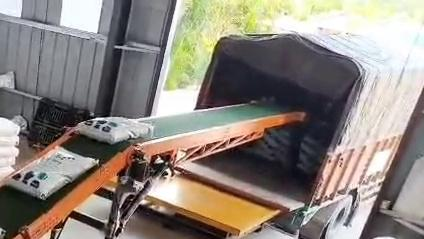box: (7, 147, 97, 199), (79, 117, 154, 144), (0, 229, 4, 237)
